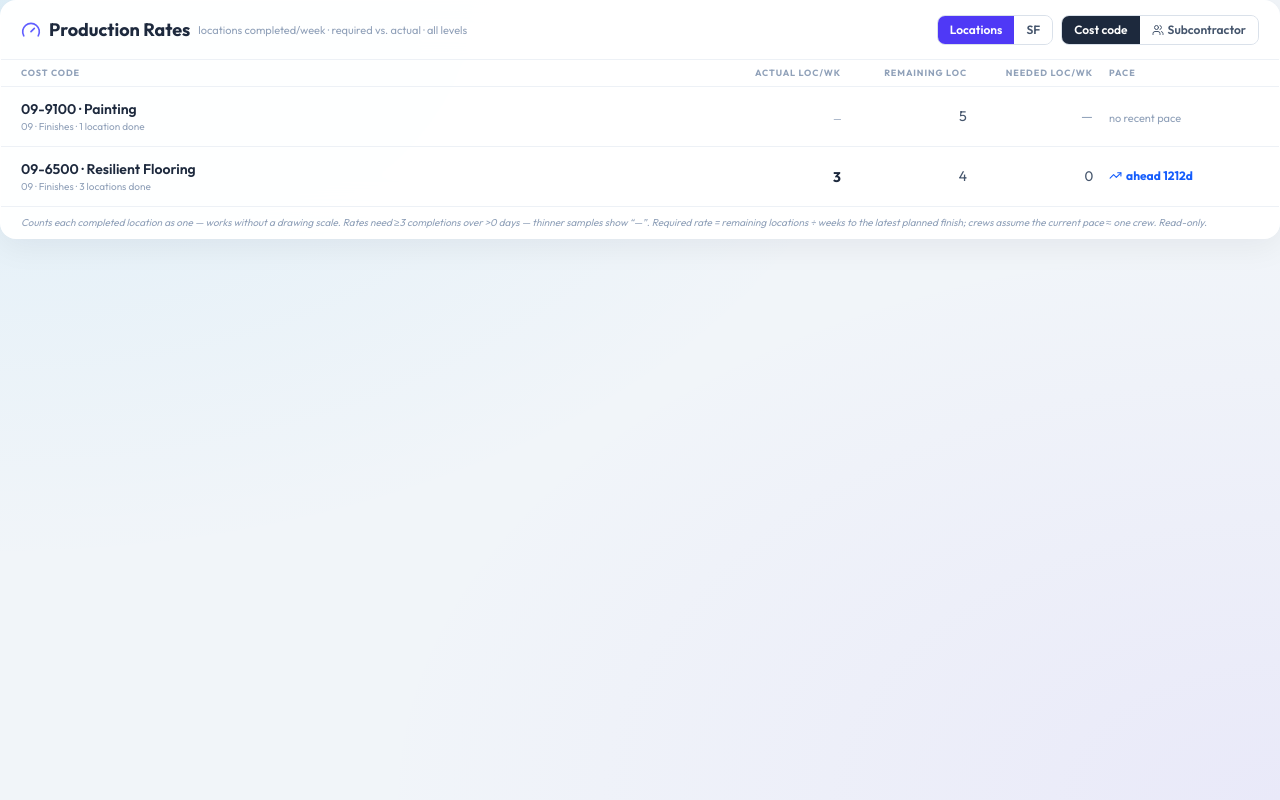
Scenario: ProductionRates › switches to the subcontractor axis and shows the company name
The image size is (1280, 800).
Click the button "Subcontractor" at (1199, 30), box [1140,16,1258,44]
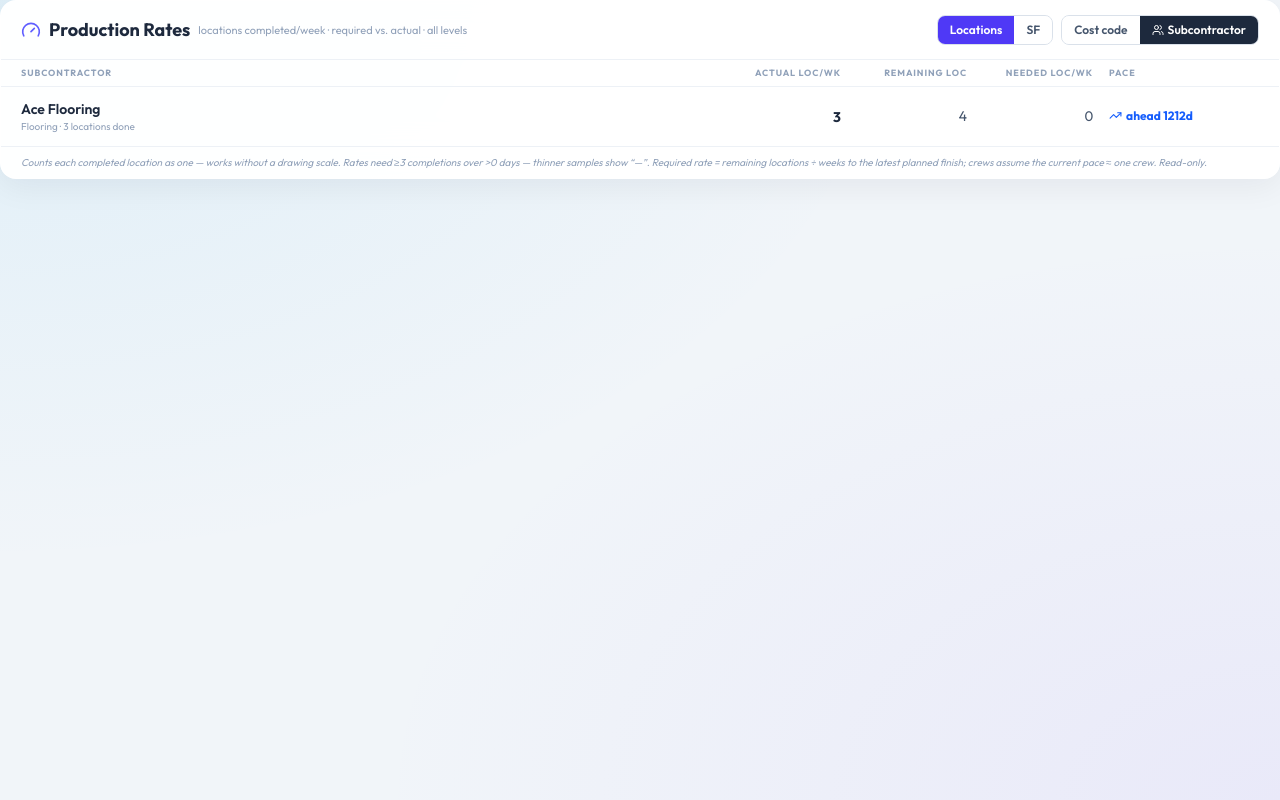
Check: the text "Ace Flooring" is shown, box [21,100,100,118]
